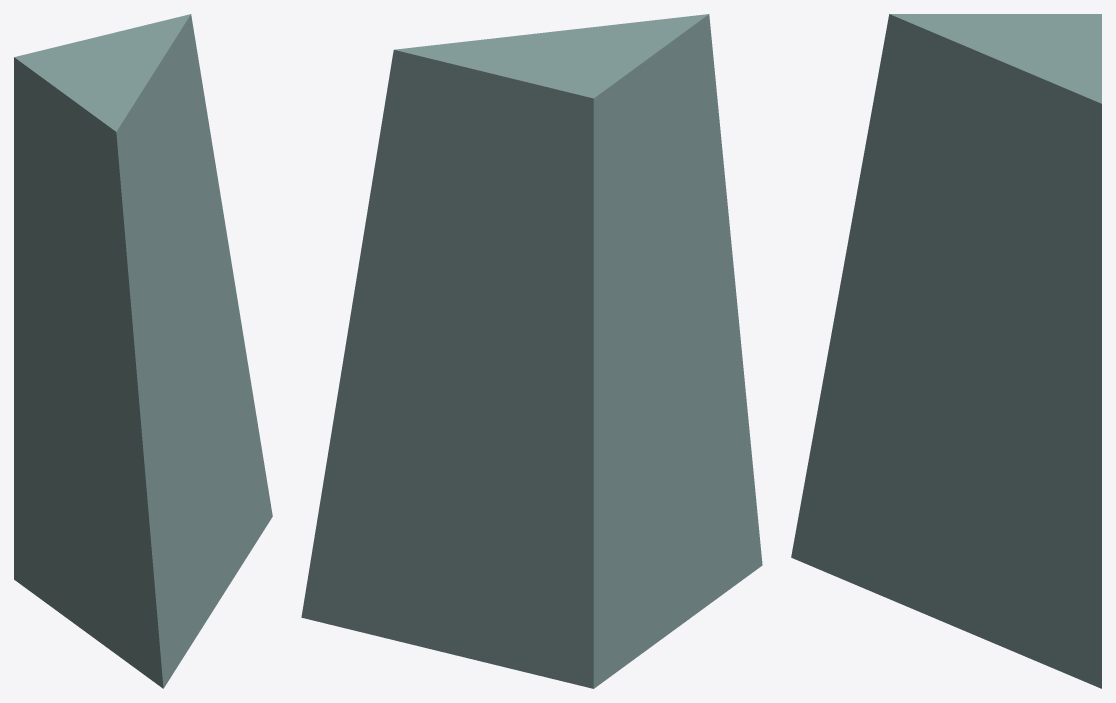
The model's file is naturePack_100.fbx.
3 renders of one model, left to right at view 1: azimuth 30°, elevation 25°; view 2: azimuth 150°, elevation 25°; view 3: azimuth 270°, elevation 25°, orthographic. The views are drawn at different scales.
Visible parts, largest first — view 1: naturePack_100; view 2: naturePack_100; view 3: naturePack_100.
Boxes of the visible parts, x1,y1,x2,y2 form: naturePack_100: (14,14,272,688); naturePack_100: (301,14,762,688); naturePack_100: (791,14,1101,688).
Size of the model in its own units: 114 by 220 by 114.
